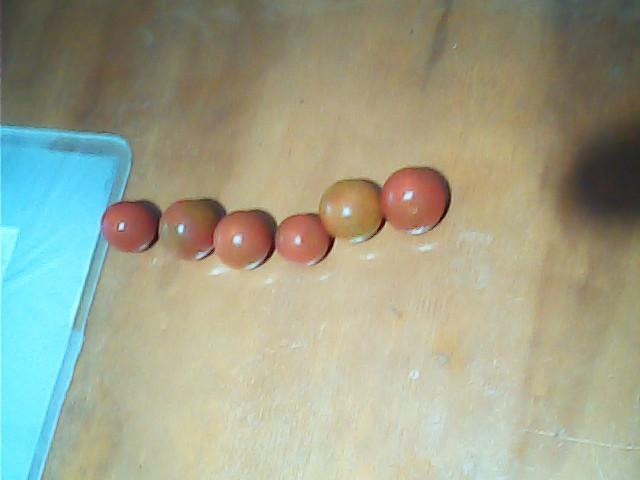maduro: (383, 166, 450, 233), (212, 211, 271, 269), (274, 211, 331, 264), (100, 200, 154, 251)
verde: (319, 179, 385, 243), (158, 200, 217, 261)
